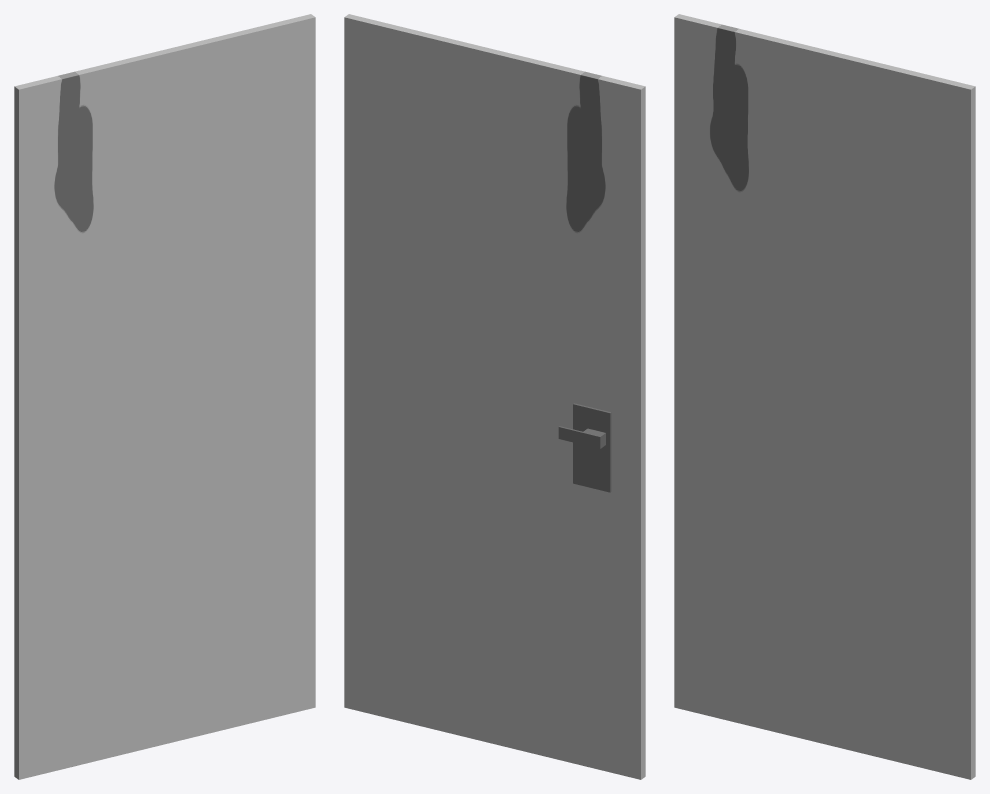
Rendered from door.fbx.
The picture shows the model from 3 angles, left to right: view 1: azimuth 30°, elevation 25°; view 2: azimuth 150°, elevation 25°; view 3: azimuth 330°, elevation 25°; orthographic projection.
Parts seen in each view (by area): view 1: Door; view 2: Door; view 3: Door.
Part boxes in pixels (x1,y1,x2,y2): Door: (14, 14, 315, 779); Door: (344, 14, 645, 779); Door: (674, 14, 975, 779).
Size of the model in its own units: 89.97 by 200 by 8.38.
